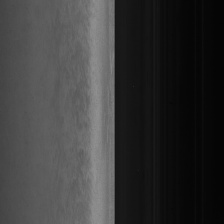silk_spot: (63, 49, 97, 208)
